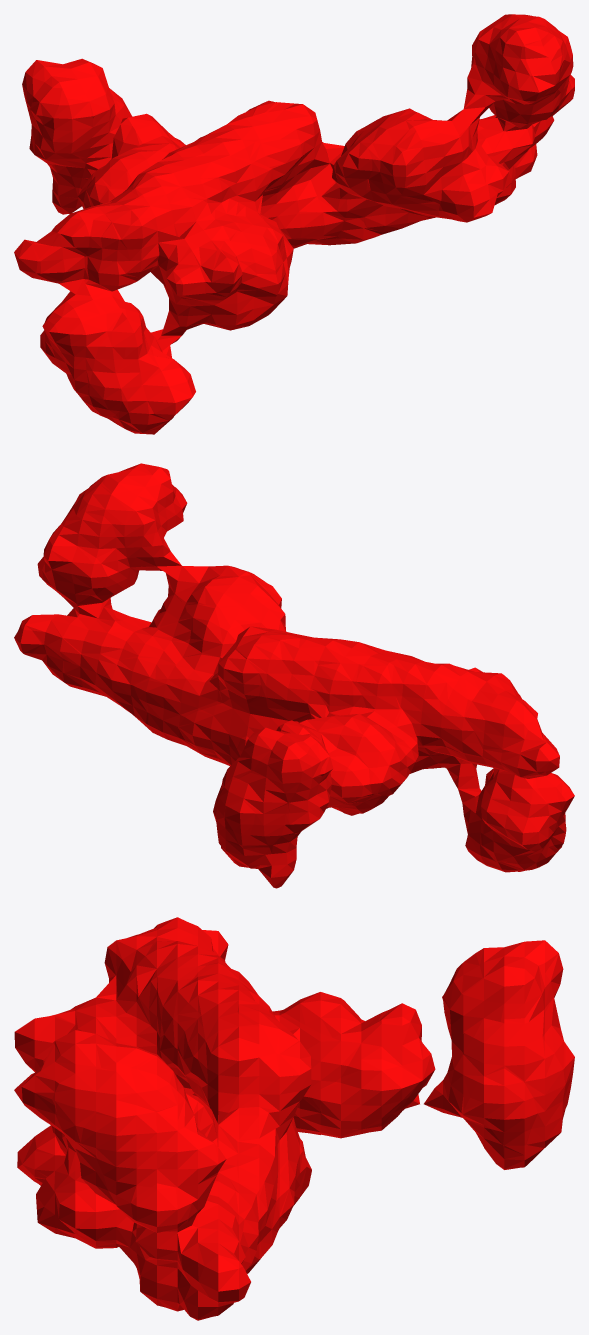
File: Synaptotagmin_V_coarse.dae
3 renders of one model, top to bottom at view 1: azimuth 30°, elevation 25°; view 2: azimuth 150°, elevation 25°; view 3: azimuth 270°, elevation 25°, orthographic. The views are drawn at different scales.
Visible parts, largest first — view 1: Synaptotagmin_V; view 2: Synaptotagmin_V; view 3: Synaptotagmin_V.
Part boxes in pixels (bbox=[...]): Synaptotagmin_V: bbox=[14, 14, 574, 434]; Synaptotagmin_V: bbox=[14, 463, 574, 888]; Synaptotagmin_V: bbox=[14, 917, 574, 1320].
Size of the model in its own units: 190 by 105 by 127.
